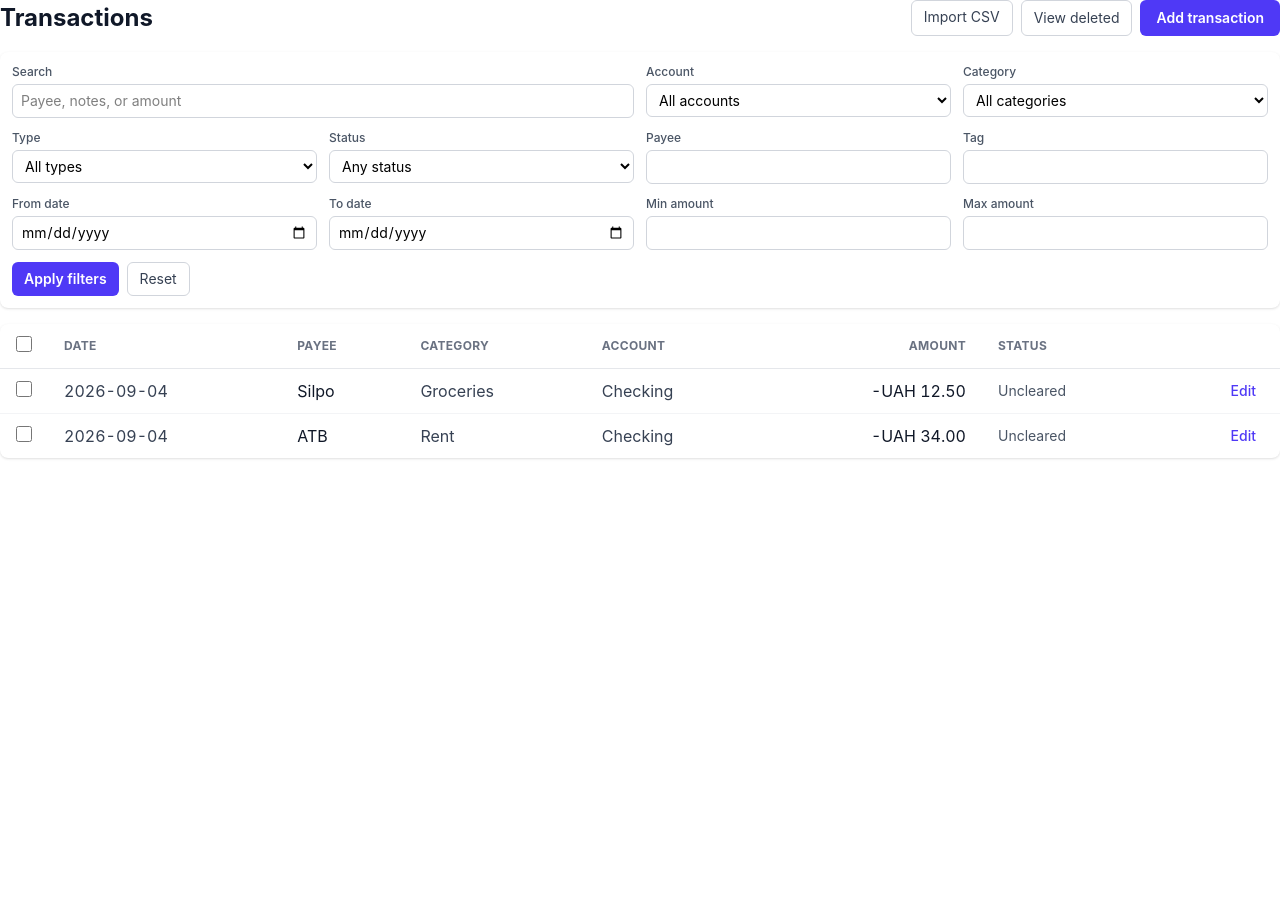
Scenario: TransactionsPage › surfaces a duplicate warning after entry
Click the button "Add transaction".
click(1210, 18)  # box [1140,0,1279,36]
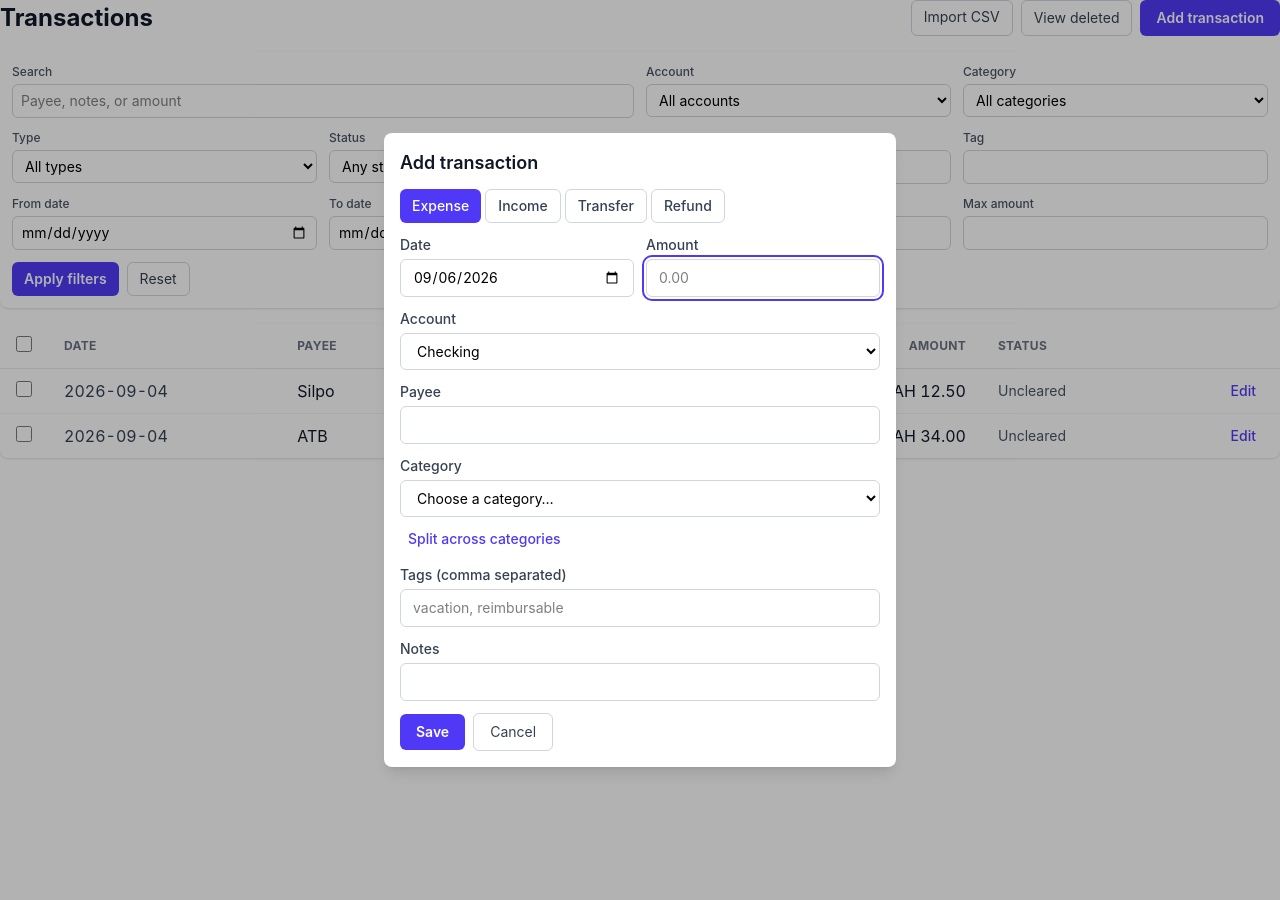
Type "12.50" into the field labelled "Amount".
click(763, 278); type("12.50")  # box [646,259,880,297]
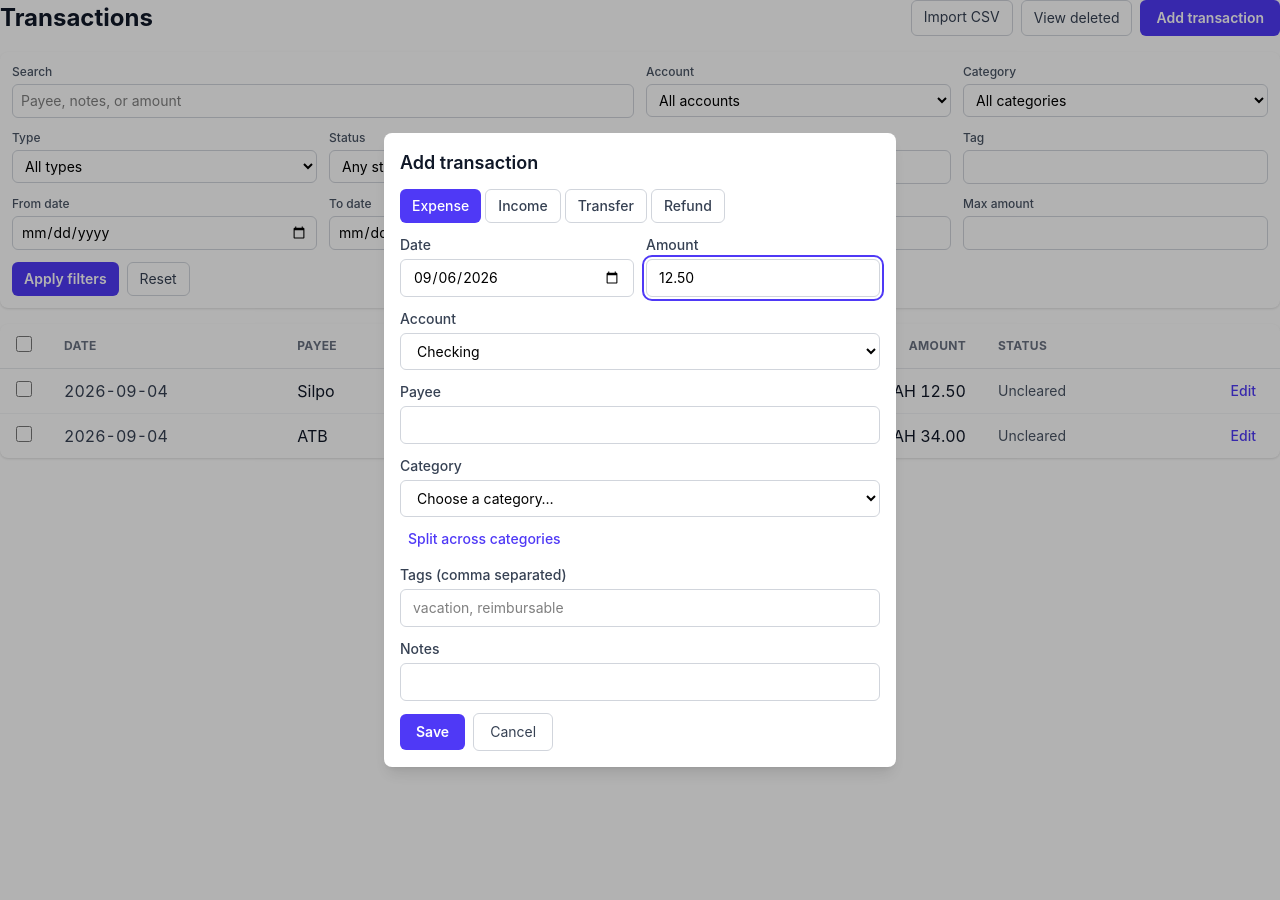
Type "Coffee shop" into the field labelled "Payee".
click(640, 425); type("Coffee shop")  # box [400,406,880,444]
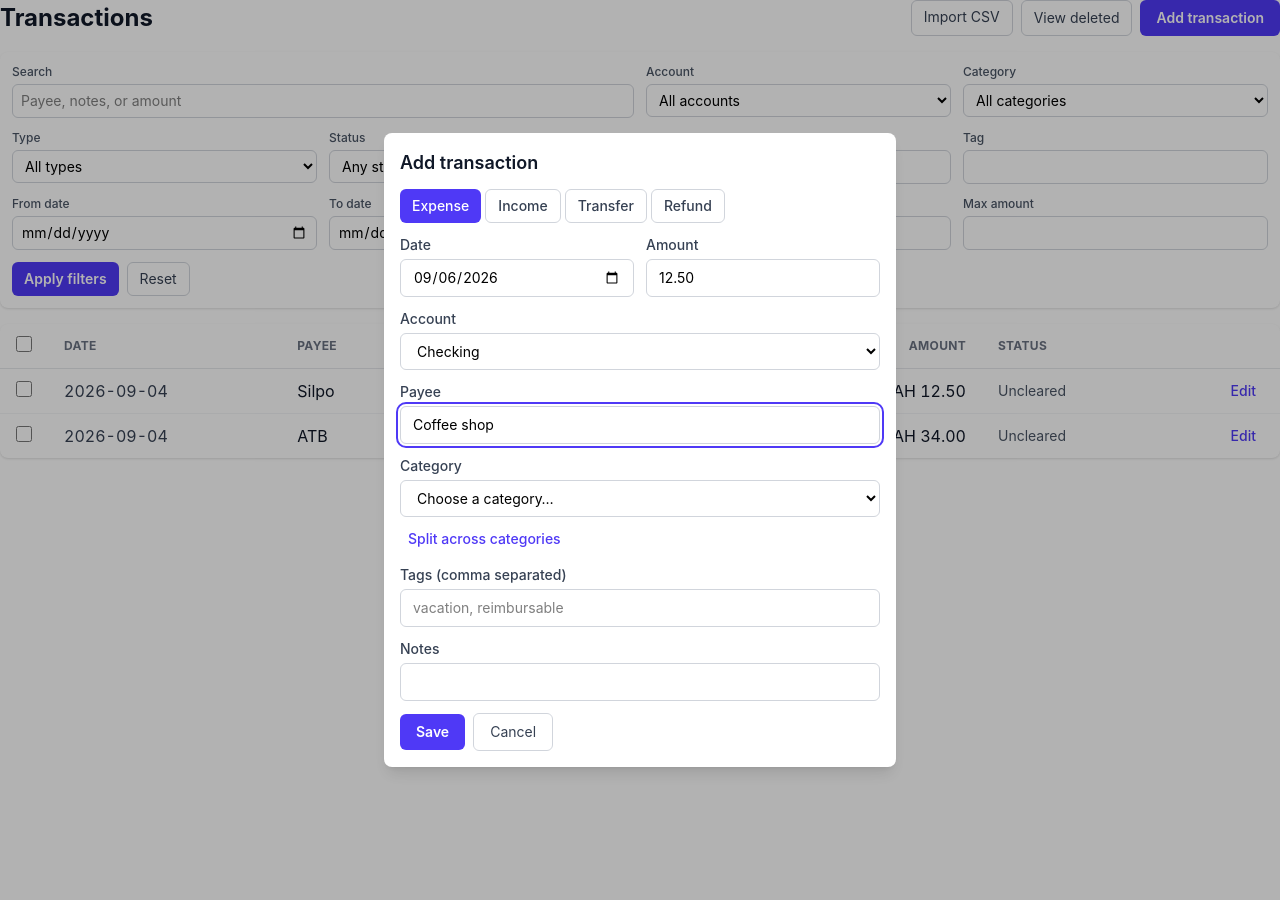
Select "Essentials · Groceries" in the dropdown labelled "Category" at (640, 498), box [400,480,880,517]
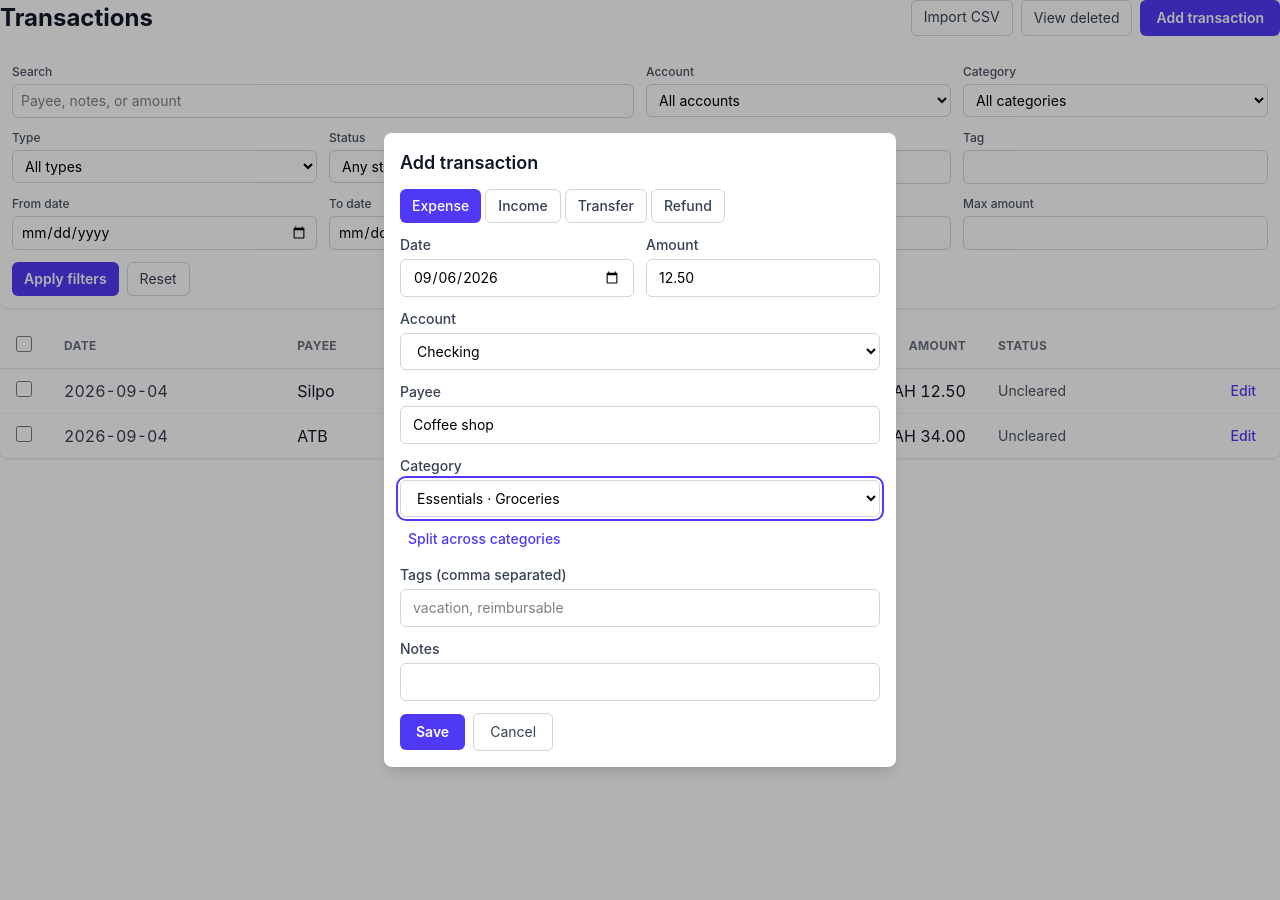
Click the button "Save".
click(433, 732)  # box [400,714,465,750]
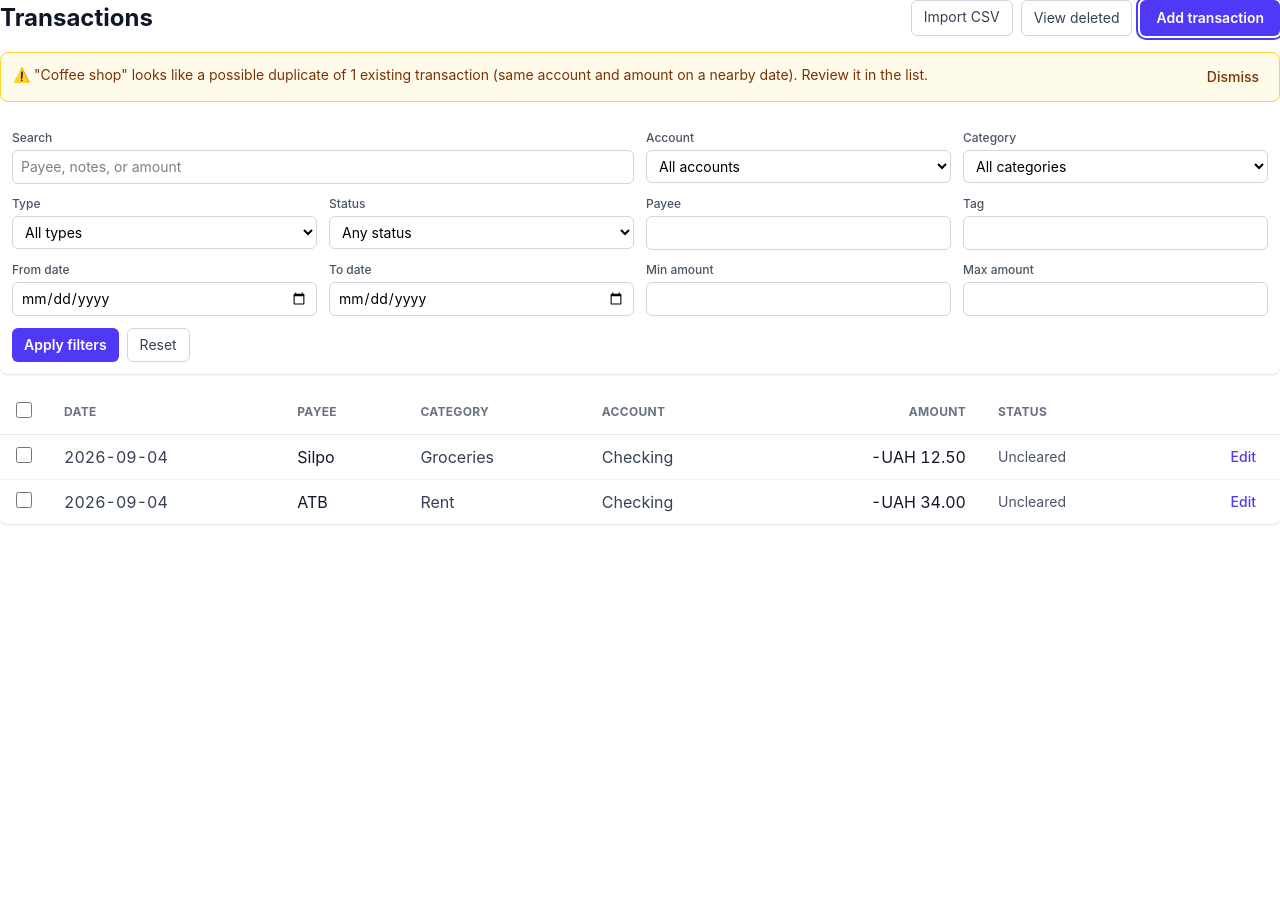
Now the message shows "possible duplicate", box [34,66,928,83]
Now the message shows "Coffee shop", box [34,66,928,83]
